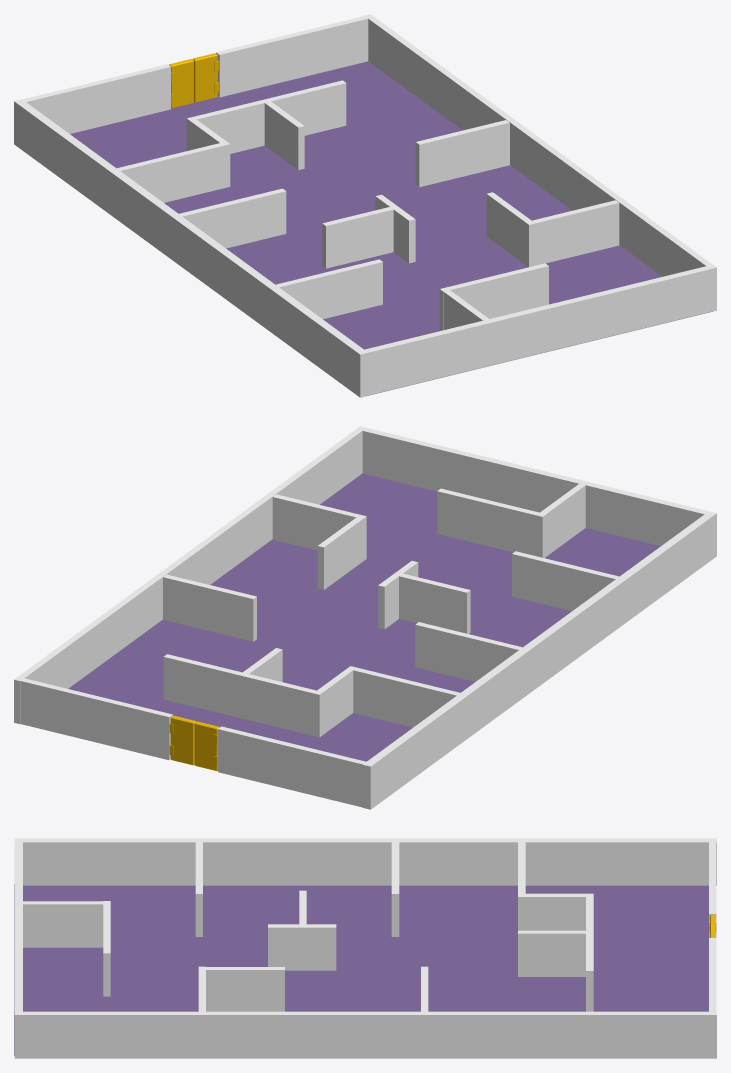
The model's file is maps_83.fbx.
3 renders of one model, top to bottom at view 1: azimuth 30°, elevation 25°; view 2: azimuth 150°, elevation 25°; view 3: azimuth 270°, elevation 25°, orthographic.
Parts seen in each view (by area): view 1: wall_01_08_geo, wall_01_07_geo, wall_01_05_geo, wall_01_06_geo, wall_01_09_geo1, wall_01_09_geo, wall_01_09_geo3, wall_01_09_geo6, wall_01_09_geo7, wall_01_09_geo9, wall_01_09_geo10, wall_01_09_geo2 (+9 smaller); view 2: wall_01_08_geo, wall_01_07_geo, wall_01_06_geo, wall_01_05_geo, wall_01_09_geo1, wall_01_09_geo3, wall_01_09_geo, wall_01_09_geo13, wall_01_09_geo6, wall_01_09_geo9, wall_01_09_geo2, wall_01_09_geo10 (+9 smaller); view 3: wall_01_08_geo, wall_01_06_geo, wall_01_07_geo, wall_01_09_geo14, wall_01_09_geo8, wall_01_09_geo5, wall_01_09_geo12, wall_01_09_geo4, wall_01_05_geo, wall_01_09_geo3, wall_01_09_geo9, wall_01_09_geo13 (+6 smaller).
Part boxes in pixels (box(x1,y1,x2,y2)): wall_01_08_geo: box(70, 61, 712, 395); wall_01_07_geo: box(14, 99, 367, 397); wall_01_05_geo: box(364, 266, 710, 395); wall_01_06_geo: box(364, 14, 716, 311); wall_01_09_geo1: box(216, 16, 368, 97); wall_01_09_geo: box(22, 64, 170, 133); wall_01_09_geo3: box(193, 80, 346, 153); wall_01_09_geo6: box(415, 120, 509, 187); wall_01_09_geo7: box(525, 200, 619, 267); wall_01_09_geo9: box(179, 188, 286, 248); wall_01_09_geo10: box(276, 259, 382, 319); wall_01_09_geo2: box(116, 143, 223, 202); wall_01_08_geo: box(68, 473, 660, 761); wall_01_07_geo: box(362, 511, 716, 809); wall_01_06_geo: box(14, 426, 366, 724); wall_01_05_geo: box(362, 428, 708, 545); wall_01_09_geo1: box(20, 678, 172, 760); wall_01_09_geo3: box(163, 654, 316, 735); wall_01_09_geo: box(218, 726, 366, 807); wall_01_09_geo13: box(437, 488, 546, 557); wall_01_09_geo6: box(163, 574, 256, 641); wall_01_09_geo9: box(415, 622, 522, 681); wall_01_09_geo2: box(353, 667, 459, 727); wall_01_09_geo10: box(512, 551, 619, 610); wall_01_08_geo: box(14, 884, 708, 1055); wall_01_06_geo: box(14, 1011, 716, 1058); wall_01_07_geo: box(14, 838, 716, 885); wall_01_09_geo14: box(22, 901, 103, 947); wall_01_09_geo8: box(206, 967, 284, 1011); wall_01_09_geo5: box(518, 930, 585, 976); wall_01_09_geo12: box(268, 924, 336, 970); wall_01_09_geo4: box(518, 893, 593, 930); wall_01_05_geo: box(14, 842, 22, 1054); wall_01_09_geo3: box(586, 897, 593, 1011); wall_01_09_geo9: box(391, 842, 399, 936); wall_01_09_geo13: box(103, 901, 110, 996).
Bounding box in the file's own units: 76.85 × 8.89 × 129.
Materials: 2 (2 with a texture image).
